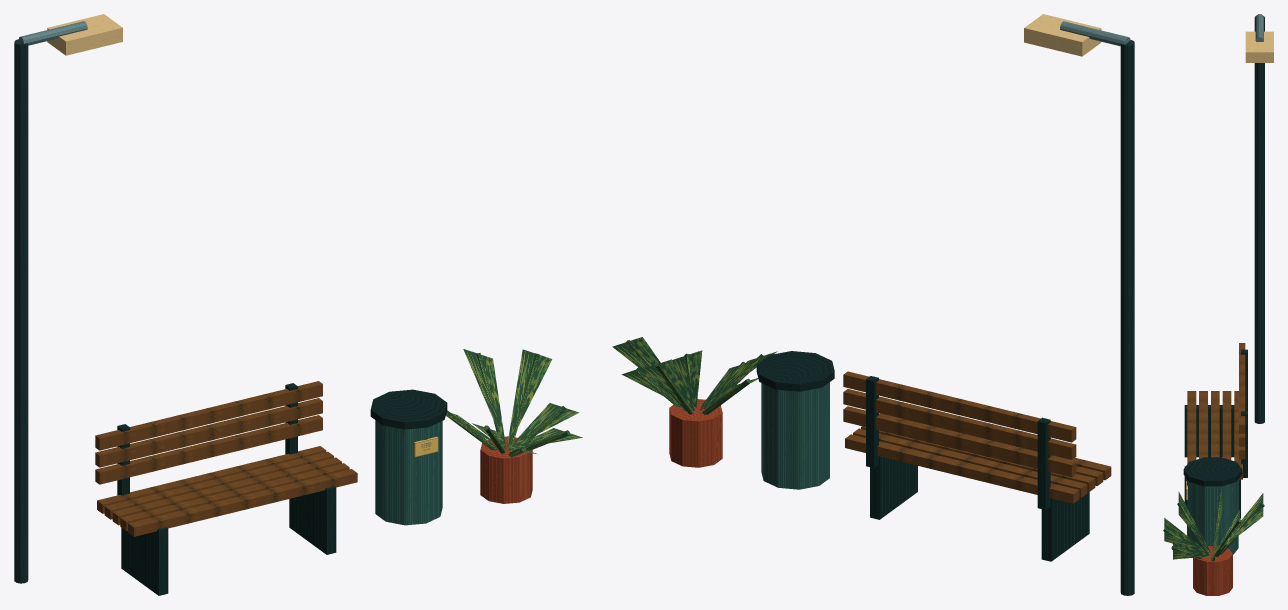
The model's file is street-furniture.glb.
3 views of the same model, side by side, from view 1: azimuth 30°, elevation 25°; view 2: azimuth 150°, elevation 25°; view 3: azimuth 270°, elevation 25° (orthographic). The views are drawn at different scales.
Parts seen in each view (by area): view 1: street-furniture; view 2: street-furniture; view 3: street-furniture.
Boxes of the visible parts, left/top/right/bottom form: street-furniture: left=14, top=14, right=582, bottom=595; street-furniture: left=612, top=14, right=1134, bottom=595; street-furniture: left=1163, top=14, right=1273, bottom=595.
Bounding box in the file's own units: 3.93 × 3.83 × 0.9448.
1 material, 1 textured.
